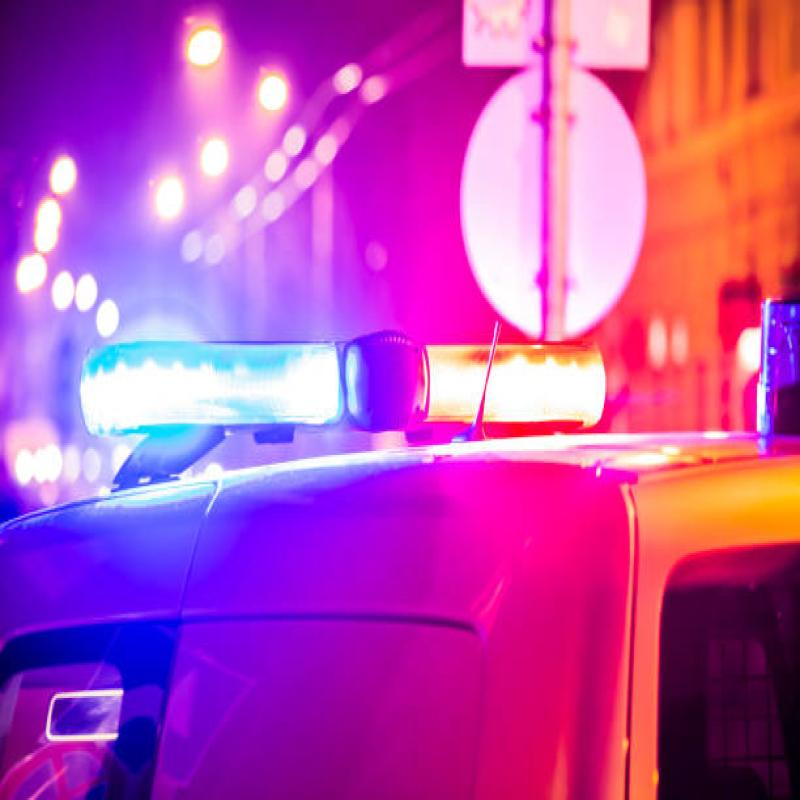AmbulanceSiren: (68, 303, 620, 470)
